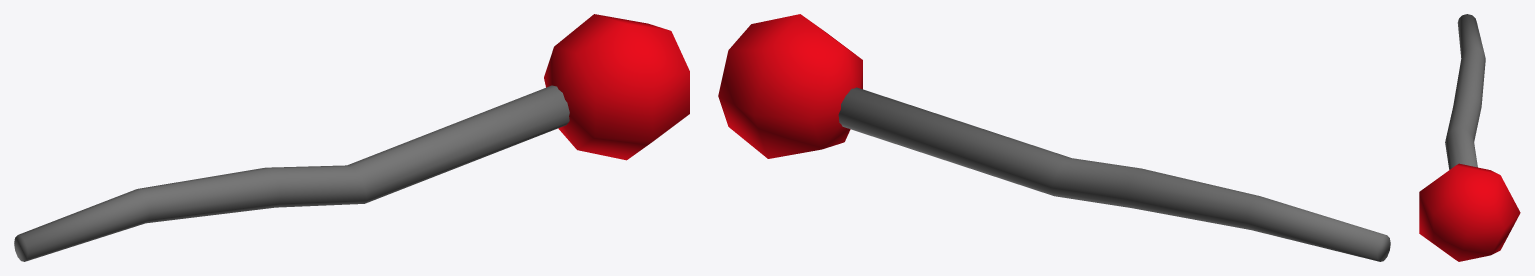
File: Lever1.fbx
The picture shows the model from 3 angles, left to right: view 1: azimuth 30°, elevation 25°; view 2: azimuth 150°, elevation 25°; view 3: azimuth 270°, elevation 25°; orthographic projection. The views are drawn at different scales.
Visible parts, largest first — view 1: Hendel; view 2: Hendel; view 3: Hendel.
Boxes of the visible parts, x1,y1,x2,y2 form: Hendel: (14, 14, 689, 261); Hendel: (718, 14, 1390, 261); Hendel: (1419, 14, 1520, 261).
Size of the model in its own units: 319 by 62.43 by 60.86.
